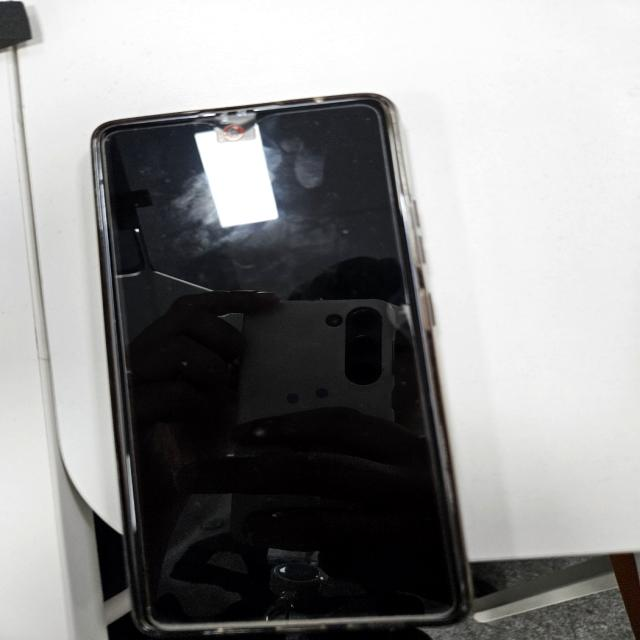phone: (91, 94, 472, 634)
sticker: (214, 110, 256, 140)
